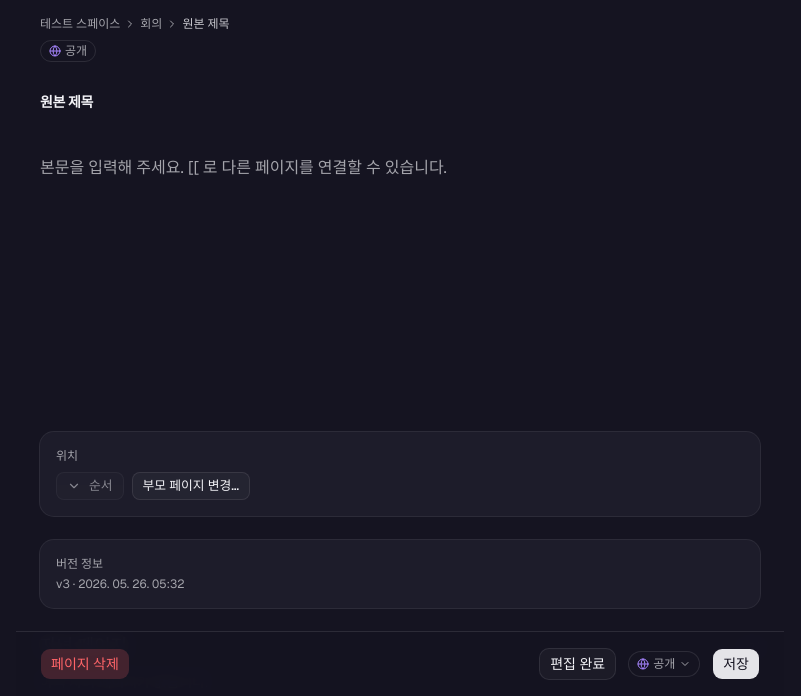
PageEditView — hero / breadcrumb › 제목 입력 즉시 breadcrumb 의 마지막 segment 가 갱신된다
Replace the text in the field showing "원본 제목" with "수정된 제목": (400, 102) [40,88,760,116]
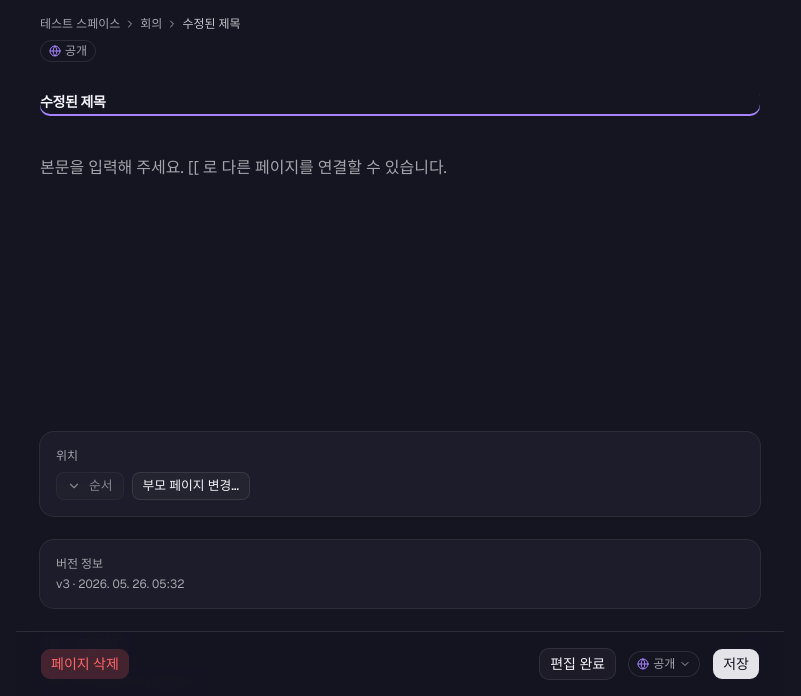
expect the navigation bar named "현재 페이지 경로" shows "수정된 제목": met, box [182,16,241,32]
